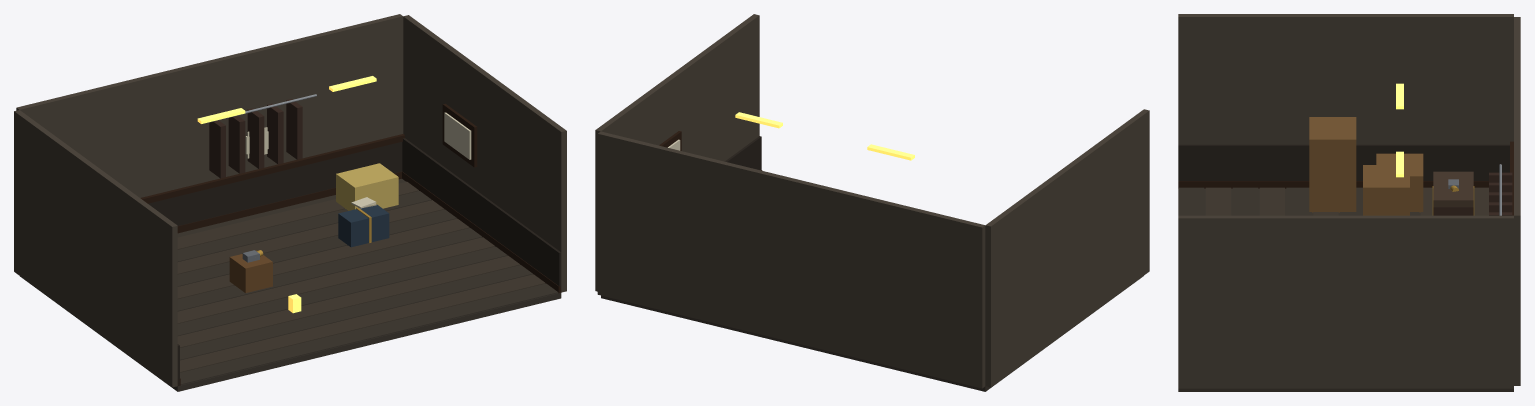
The model's file is baggage.glb.
3 views of the same model, side by side, from view 1: azimuth 30°, elevation 25°; view 2: azimuth 150°, elevation 25°; view 3: azimuth 270°, elevation 25° (orthographic). The views are drawn at different scales.
Visible parts, largest first — view 1: WallBack, WallLeft, WallRight, BandBack, BandRight, Plank0, Plank1, Plank2, Plank3, Plank4, Plank5, Plank6 (+19 smaller); view 2: WallBack, WallLeft, WallRight, Floor, BandRight; view 3: WallRight, WallLeft, BandLeft, Crate1, WallBack, Crate2, Crate0, Floor, TrunkLid, SkirtLeft, Crate3, Plank1 (+7 smaller).
Boxes of the visible parts, x1,y1,x2,y2 form: WallBack: (16,14,403,197); WallLeft: (14,110,177,387); WallRight: (403,15,566,292); BandBack: (148,142,402,225); BandRight: (402,138,561,289); Plank0: (180,283,558,384); Plank1: (180,274,545,372); Plank2: (180,265,532,360); Plank3: (177,255,520,347); Plank4: (177,246,507,335); Plank5: (177,237,494,323); Plank6: (177,228,481,311); WallBack: (597,131,985,388); WallLeft: (985,109,1149,387); WallRight: (595,14,759,291); Floor: (601,276,1143,391); BandRight: (725,136,761,170); WallRight: (1178,215,1513,388); WallLeft: (1178,14,1513,144); BandLeft: (1178,144,1509,180); Crate1: (1309,117,1356,176); WallBack: (1514,17,1520,385); Crate2: (1363,165,1409,215); Crate0: (1309,176,1356,212); Floor: (1178,188,1513,391); TrunkLid: (1433,171,1473,207); SkirtLeft: (1178,181,1488,188); Crate3: (1376,153,1423,212); Plank1: (1205,187,1231,215).
Bounding box in the file's own units: 7.2 × 2.9 × 5.1.
